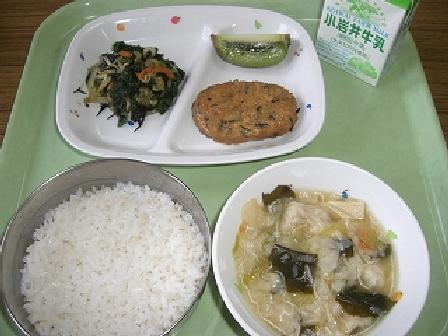Meat: (188, 75, 295, 145)
Milk: (306, 4, 415, 70)
Rice: (1, 163, 210, 335)
Salad: (69, 37, 190, 124)
Soups: (209, 167, 429, 334)
kiwi: (211, 27, 297, 72)
